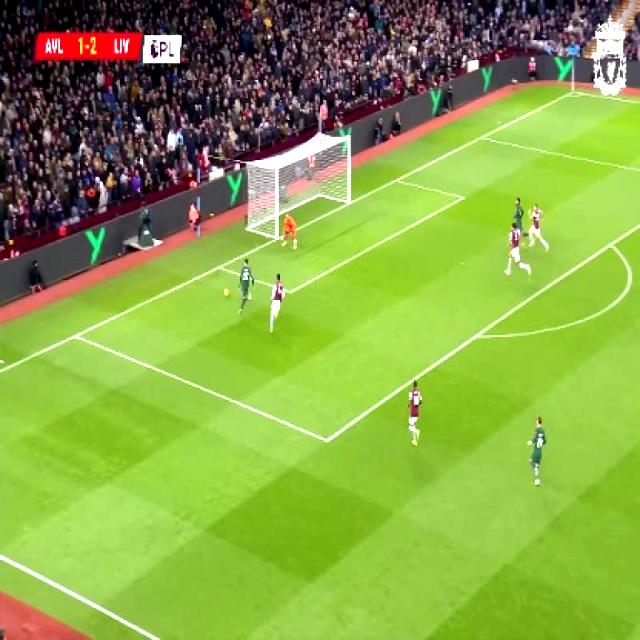bigarea_bottom_inner: (315, 424, 337, 454)
bigarea_bottom_outter: (66, 324, 84, 346)
bigarea_top_outter: (474, 128, 489, 146)
bottom_arc_area_intersection: (466, 320, 488, 348)
corner: (563, 83, 582, 100)
smallarea_bottom_inner: (280, 278, 297, 304)
smallarea_bottom_outter: (209, 254, 228, 276)
smallarea_top_inner: (452, 186, 471, 208)
smallarea_top_outter: (388, 168, 404, 190)
top_arc_area_intersection: (602, 232, 620, 255)
